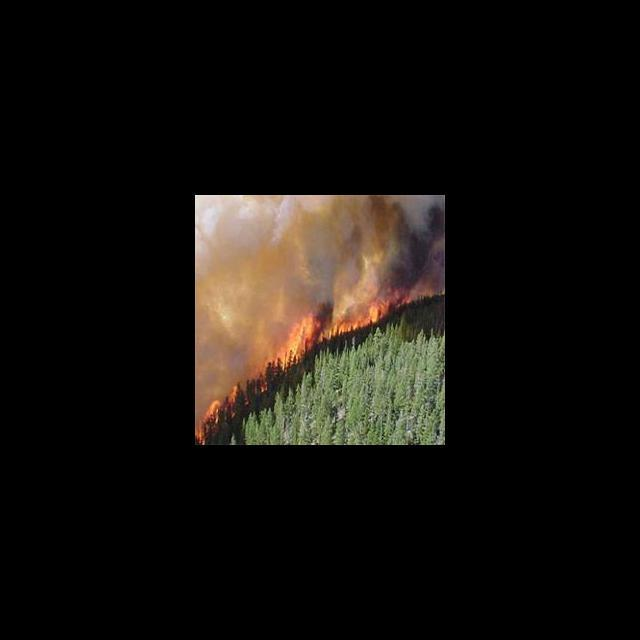Fire: (275, 299, 388, 372), (196, 388, 242, 444)
Smoke: (196, 195, 358, 301), (372, 201, 445, 282)
